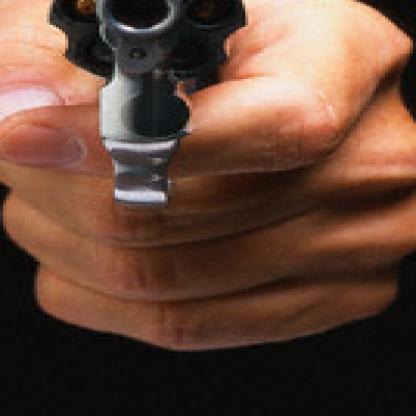gun: (34, 0, 280, 227)
